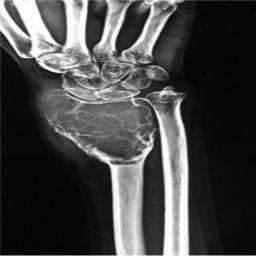cancer: (40, 89, 159, 168)
